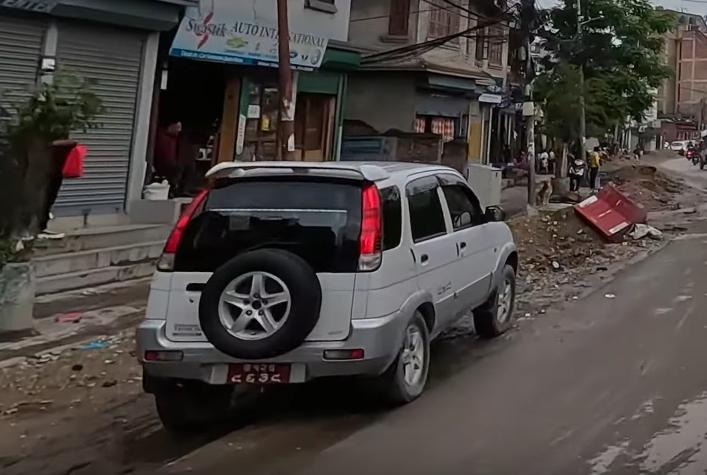SUV: (149, 151, 521, 426)
